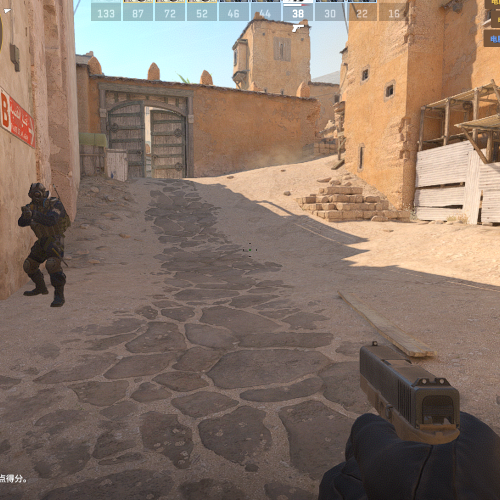ct_body: (17, 181, 69, 308)
ct_head: (27, 182, 47, 205)
